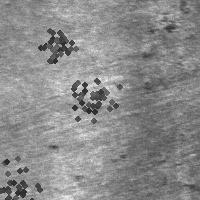rolled-in_scale: (61, 66, 119, 124), (0, 146, 51, 200), (28, 18, 78, 68), (151, 1, 192, 37)
